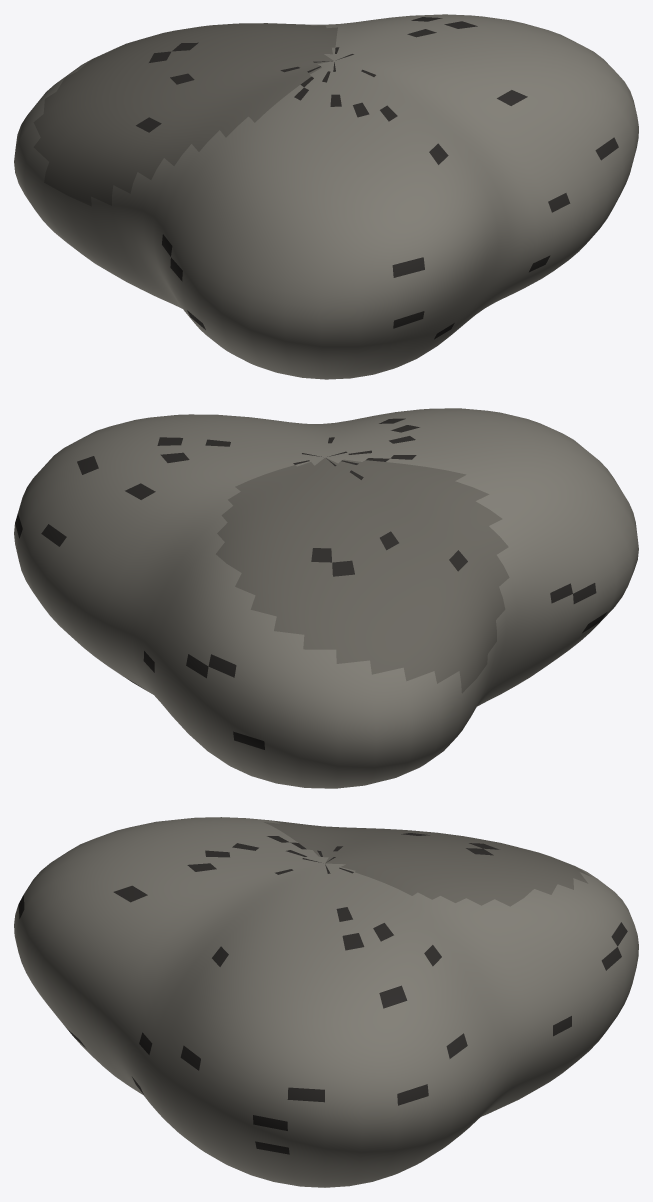
The model's file is Stone_03_Triangle.fbx.
3 views of the same model, one above another, from view 1: azimuth 30°, elevation 25°; view 2: azimuth 150°, elevation 25°; view 3: azimuth 270°, elevation 25° (orthographic).
Visible parts, largest first — view 1: Stone_03_Triangle; view 2: Stone_03_Triangle; view 3: Stone_03_Triangle.
Boxes of the visible parts, x1,y1,x2,y2 form: Stone_03_Triangle: (14,14,638,379); Stone_03_Triangle: (14,408,638,788); Stone_03_Triangle: (14,817,638,1187).
Size of the model in its own units: 0.0411 by 0.0202 by 0.0437.
